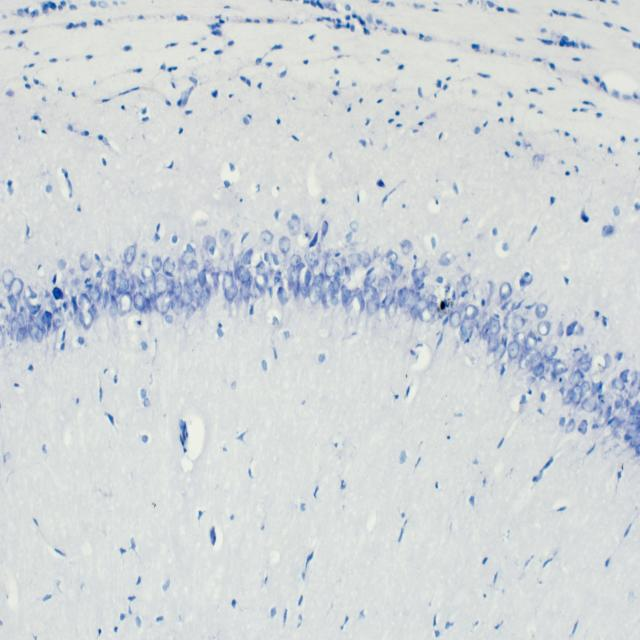neuron: (347, 292, 365, 316), (118, 292, 133, 316), (154, 292, 170, 314), (195, 286, 212, 306), (412, 266, 429, 286), (10, 316, 23, 342), (581, 392, 597, 413), (79, 308, 94, 330), (153, 274, 169, 294), (324, 258, 340, 278), (79, 249, 93, 271), (308, 284, 322, 306), (518, 352, 534, 371), (8, 278, 24, 296), (220, 258, 238, 274), (460, 318, 472, 342), (2, 268, 15, 290), (304, 250, 319, 269), (287, 267, 300, 288), (493, 341, 506, 362), (188, 281, 204, 298), (88, 285, 102, 304), (184, 266, 198, 285), (287, 217, 301, 236), (506, 341, 520, 360), (74, 308, 86, 330), (340, 283, 351, 307), (109, 295, 119, 321), (222, 270, 235, 290), (390, 262, 403, 282), (524, 330, 537, 350), (552, 360, 568, 376), (17, 305, 28, 328), (241, 276, 252, 299), (124, 245, 136, 266), (224, 284, 238, 302), (254, 274, 268, 292), (363, 284, 377, 302), (358, 250, 372, 268), (438, 252, 456, 266), (600, 406, 612, 427), (36, 309, 46, 334), (488, 318, 501, 337), (134, 291, 146, 311), (138, 281, 150, 301), (202, 235, 217, 251), (219, 228, 231, 248), (78, 293, 92, 310), (236, 266, 250, 283), (381, 250, 398, 264), (427, 301, 441, 318), (141, 265, 154, 283), (366, 298, 379, 316), (52, 308, 64, 327), (31, 326, 45, 342), (511, 315, 525, 331), (542, 345, 558, 359), (419, 306, 432, 323), (499, 282, 512, 299), (572, 322, 585, 339), (397, 287, 408, 307), (163, 256, 175, 274), (277, 286, 289, 304), (562, 388, 574, 406), (592, 406, 604, 424), (42, 310, 52, 331), (348, 253, 362, 268), (530, 352, 543, 368), (578, 381, 591, 397), (279, 236, 291, 253), (456, 281, 468, 298), (538, 320, 550, 337), (566, 320, 578, 337), (628, 381, 640, 398), (28, 316, 38, 336), (172, 281, 182, 301), (178, 291, 192, 305), (117, 279, 130, 294), (260, 230, 273, 245), (612, 377, 625, 392), (180, 250, 192, 266), (400, 239, 412, 255), (487, 336, 499, 352), (8, 293, 18, 312), (166, 290, 176, 309), (573, 384, 582, 405), (321, 287, 332, 304), (410, 304, 421, 321), (89, 303, 99, 321), (147, 277, 156, 297), (198, 268, 208, 286), (378, 276, 390, 291), (425, 293, 437, 308), (450, 310, 460, 328), (536, 303, 548, 318), (564, 419, 576, 434), (243, 248, 254, 264), (384, 290, 395, 306), (152, 255, 162, 272), (465, 305, 478, 318), (289, 253, 301, 267), (328, 280, 340, 294), (364, 272, 376, 286), (512, 332, 526, 344), (532, 363, 544, 377), (572, 370, 584, 384), (16, 327, 27, 342), (604, 352, 612, 372), (172, 300, 183, 314), (314, 272, 325, 286), (300, 282, 310, 297), (620, 368, 630, 383), (23, 284, 32, 300), (388, 300, 396, 318), (108, 270, 115, 290), (256, 261, 266, 275), (264, 266, 274, 280), (578, 420, 588, 434), (614, 394, 624, 408), (304, 269, 312, 286), (580, 360, 591, 372), (187, 304, 197, 317), (374, 245, 384, 258), (574, 349, 584, 362), (349, 220, 359, 232), (118, 269, 127, 282), (184, 314, 192, 328), (204, 260, 213, 272), (462, 274, 471, 286), (482, 322, 488, 340), (578, 353, 590, 362), (345, 231, 353, 243), (164, 314, 173, 324), (330, 296, 338, 306), (598, 394, 606, 404)
